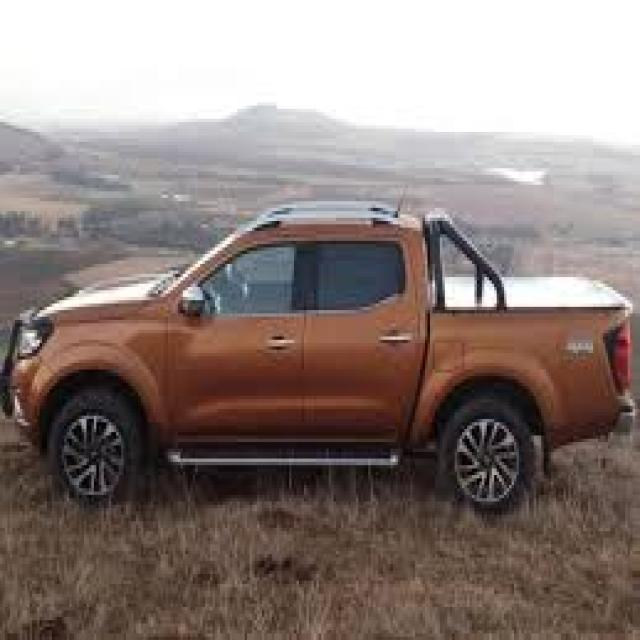Pickup Trucks: (2, 201, 632, 508)
